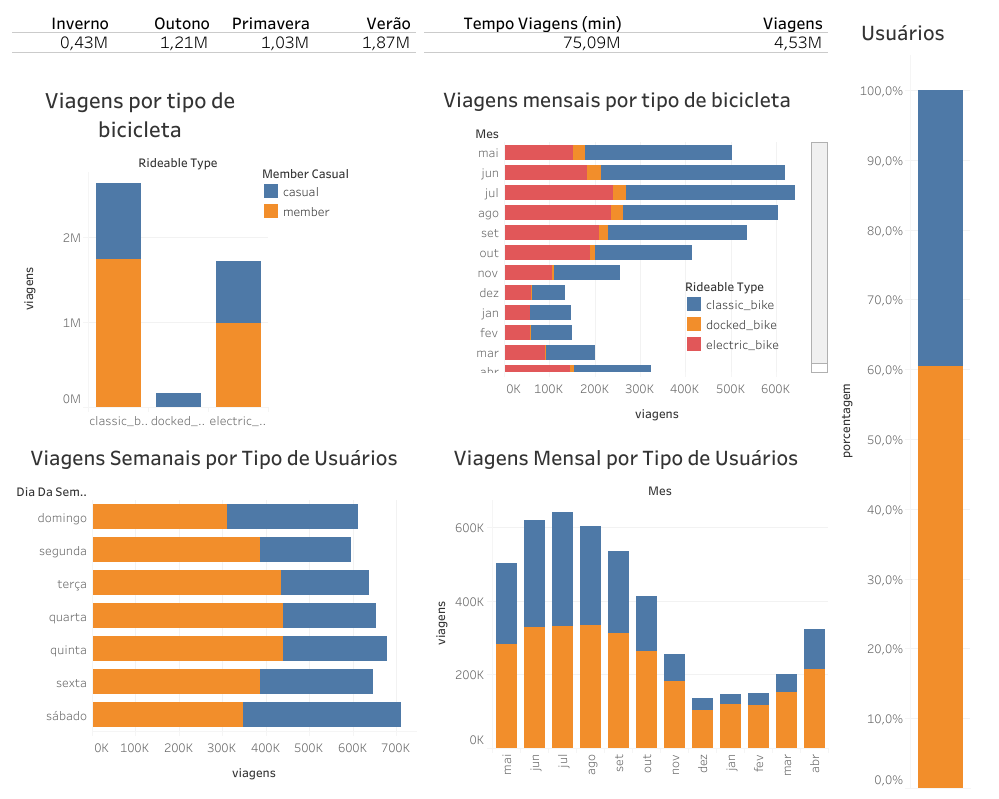

The dashboard page shown, as its layout file describes it:
{"tool":"tableau","page":{"name":"Painel 1","canvas":[1000,800],"ordinal":0},"visuals":[{"type":"worksheet","title":"estacao","mark":"Automatic","cols":["estacao"],"box":[8,8,412,67]},{"type":"worksheet","title":"resumo","mark":"Automatic","box":[420,8,412,67]},{"type":"worksheet","title":"usuario","mark":"Automatic","box":[832,8,160,784]},{"type":"worksheet","title":"tipo bicicleta","mark":"Automatic","rows":["Calculation_530861822133109140"],"cols":["rideable_type"],"box":[8,75,412,358.5]},{"type":"worksheet","title":"mensal bicicleta","mark":"Automatic","rows":["mes"],"cols":["Calculation_530861822133109140"],"box":[420,75,412,358.5]},{"type":"legend","title":"usuario","param":"[federated.0bhb45r0e9x7ih1dtcak60dqbag4].[none:member_casual:nk]","box":[261,162,152,59]},{"type":"legend","title":"mensal bicicleta","param":"[federated.0bhb45r0e9x7ih1dtcak60dqbag4].[none:rideable_type:nk]","box":[684,275,152,79]},{"type":"worksheet","title":"Viagens semana","mark":"Automatic","rows":["dia_da_semana"],"cols":["Calculation_530861822133109140"],"box":[8,433.5,412,358.5]},{"type":"worksheet","title":"viagens mensal","mark":"Automatic","rows":["Calculation_530861822133109140"],"cols":["mes"],"box":[420,433.5,412,358.5]}]}

Visuals, with their boxes in screenshot pixels (x1, y1, x2, y2), scaled from the page's 1000x800 canvas onto the 999x799 screenshot:
"estacao" worksheet: [8, 8, 420, 75]
"resumo" worksheet: [420, 8, 831, 75]
"usuario" worksheet: [831, 8, 991, 791]
"tipo bicicleta" worksheet: [8, 75, 420, 433]
"mensal bicicleta" worksheet: [420, 75, 831, 433]
"usuario" legend: [261, 162, 413, 221]
"mensal bicicleta" legend: [683, 275, 835, 354]
"Viagens semana" worksheet: [8, 433, 420, 791]
"viagens mensal" worksheet: [420, 433, 831, 791]
